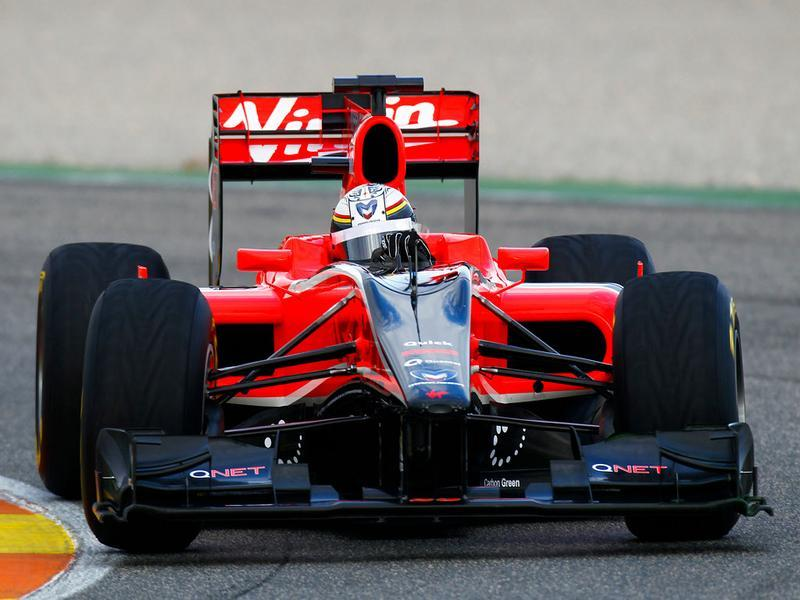f1: (47, 81, 779, 535)
